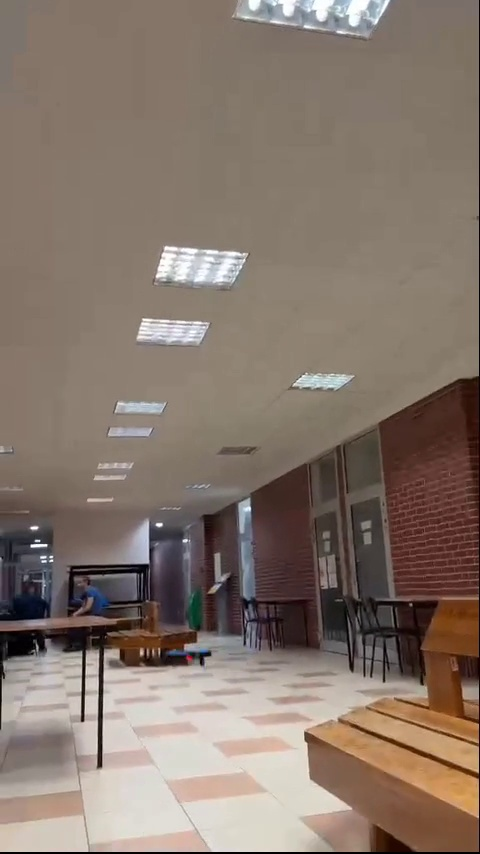drone: (168, 646, 215, 668)
no vest: (6, 577, 49, 619), (71, 572, 106, 618)
